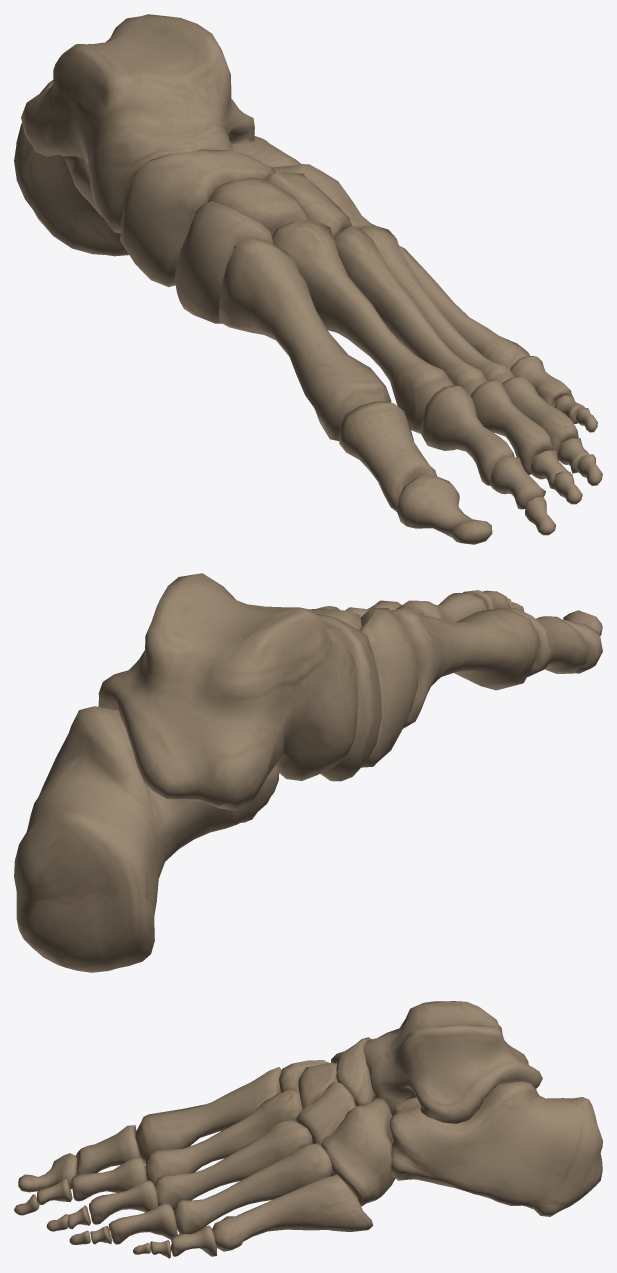
Rendered from Human_Foot_Bones.FBX.
The picture shows the model from 3 angles, top to bottom: view 1: azimuth 30°, elevation 25°; view 2: azimuth 150°, elevation 25°; view 3: azimuth 270°, elevation 25°; orthographic projection. The views are drawn at different scales.
Visible parts, largest first — view 1: Foot_L; view 2: Foot_L; view 3: Foot_L.
Boxes of the visible parts, x1=… form: Foot_L: x1=14, y1=14, x2=602, y2=544; Foot_L: x1=14, y1=573, x2=602, y2=972; Foot_L: x1=14, y1=1001, x2=602, y2=1258.
Bounding box in the file's own units: 9.33 × 8.35 × 24.62.
Materials: 1 (1 with a texture image).
